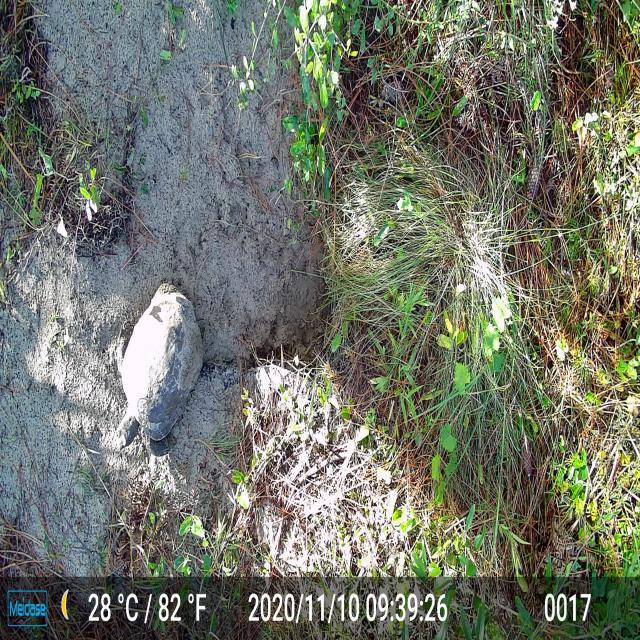tortoise: (114, 277, 210, 453)
